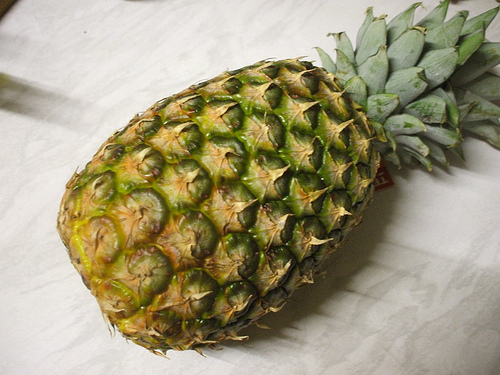pineapple: (52, 0, 499, 361)
